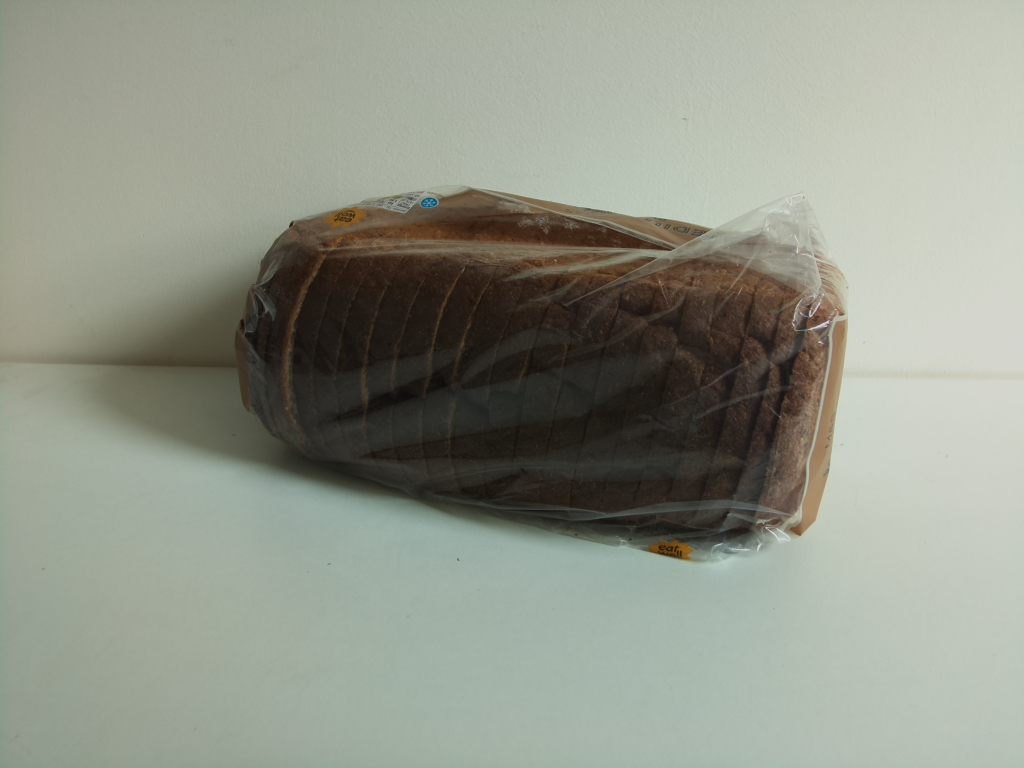bread: (233, 187, 854, 566)
